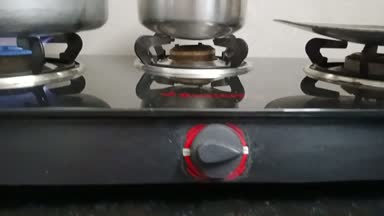flame_gas_off: (152, 20, 262, 182)
flame_gas_on: (2, 18, 92, 134)
